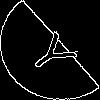Y: (25, 25, 86, 79)
